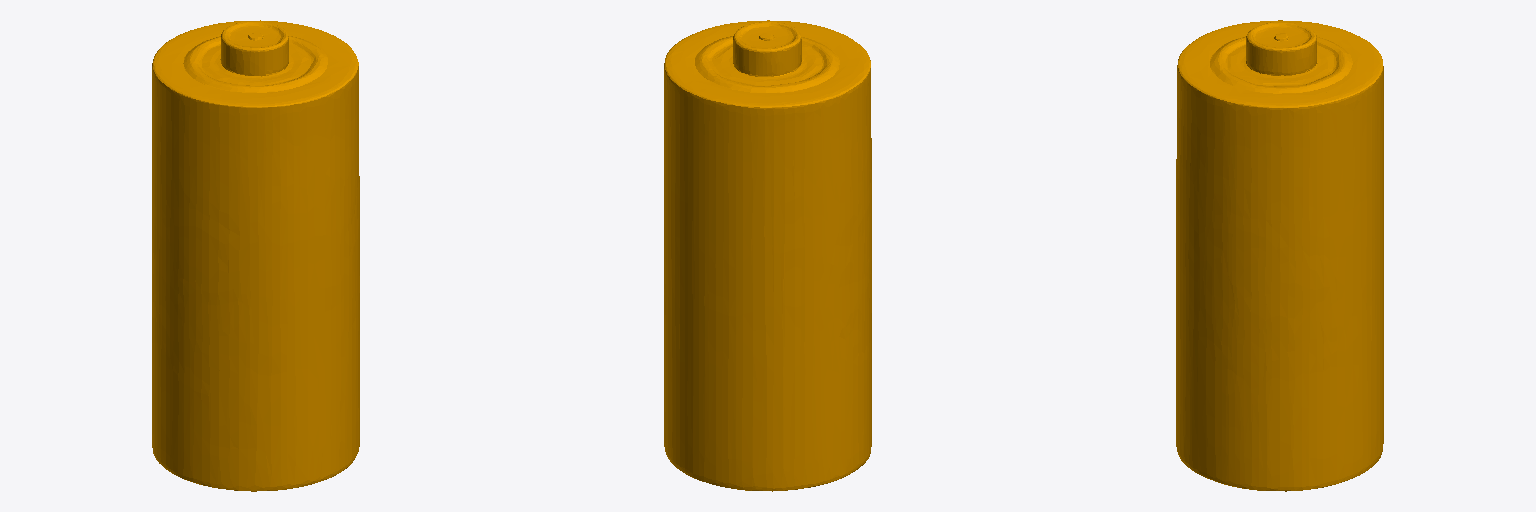
robot.urdf — sample:
<?xml version="1.0" ?>
<robot name="sample">
   <link name="sample">
      <visual>
         <origin xyz="0 0 0" rpy="1.5708 0.0 0.0"/>
         <geometry>
            <mesh filename="mesh/sample.obj" scale="1.0 1.0 1.0"/>
         </geometry>
      </visual>
      <collision>
         <origin xyz="0 0 0" rpy="1.5708 0.0 0.0"/>
         <geometry>
            <mesh filename="mesh/sample_collision.obj" scale="1.0 1.0 1.0"/>
         </geometry>
         <gazebo>
            <mu1>0.50</mu1>
            <mu2>0.40</mu2>
         </gazebo>
      </collision>
      <inertial>
         <mass value="0.1500"/>
         <origin xyz="0 0 0"/>
         <inertia ixx="1.0" ixy="0.0" ixz="0.0" iyy="1.0" iyz="0.0" izz="1.0"/>
      </inertial>
      <extra_info>
         <scale>0.070000</scale>
         <version>v0.1.7</version>
         <category>battery</category>
         <description>cylindrical battery with yellow and black logo</description>
         <min_height>0.06</min_height>
         <max_height>0.08</max_height>
         <real_height>0.07</real_height>
         <min_mass>0.1</min_mass>
         <max_mass>0.2</max_mass>
         <color>grey</color>
         <rgba>[0.7, 0.7, 0.7, 1.0]</rgba>
         <generate_time>20260625093453</generate_time>
         <gs_model>mesh/sample_gs.ply</gs_model>
      </extra_info>
   </link>
   <custom_data>
      <quality>
         <MeshGeoChecker>YES</MeshGeoChecker>
         <ImageSegChecker>NO, object is incomplete and not centered, missing most batteries and box.</ImageSegChecker>
         <ImageAestheticChecker>4.092798590660095</ImageAestheticChecker>
         <overall>NO</overall>
      </quality>
   </custom_data>
</robot>

--- Render facts (derived) ---
Views: 3 orthographic renders of the robot side by side, from view 1: azimuth 30°, elevation 25°; view 2: azimuth 150°, elevation 25°; view 3: azimuth 270°, elevation 25°.
Model sample with 1 links and 0 joints (none), rooted at sample, posed every joint at zero.
Links seen in each view (by area): view 1: sample; view 2: sample; view 3: sample.
Boxes of the visible links, x1=… form: sample: x1=152, y1=20, x2=359, y2=491; sample: x1=664, y1=20, x2=871, y2=491; sample: x1=1176, y1=20, x2=1383, y2=491.
Size in the robot's own frame: 0.0321 by 0.032 by 0.07 metres.
1 mesh visuals loaded from 1 distinct referenced files (1 OBJ).
